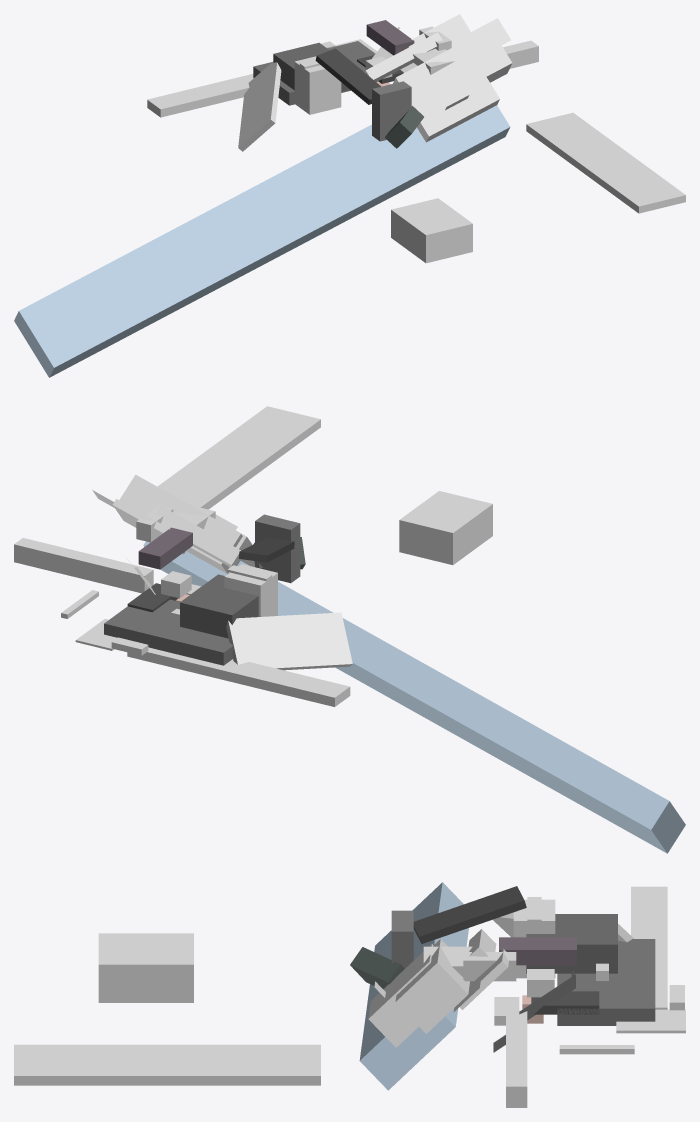
3 views of the same model, one above another, from view 1: azimuth 30°, elevation 25°; view 2: azimuth 150°, elevation 25°; view 3: azimuth 270°, elevation 25° (orthographic). The views are drawn at different scales.
Parts seen in each view (by area): view 1: Cube.020, Cube.032, Cube.011, Cube.031, Cube.024, Cube.029, Cube.007, Cube.022, Cube.008, Cube.009, Cube.006, Cube.025 (+5 smaller); view 2: Cube.020, Cube.032, Cube.024, Cube.031, Cube.029, Cube.002, Cube.005, Cube.025, Cube.022, Cube.008, Cube.006, Cube.007 (+4 smaller); view 3: Cube.032, Cube.031, Cube.020, Cube.002, Cube.022, Cube.025, Cube.029, Cube.009, Cube.011, Cube.005, Cube.019, Cube.023 (+15 smaller).
Boxes of the visible parts, x1,y1,x2,y2 form: Cube.020: (14, 105, 510, 377); Cube.032: (526, 112, 685, 213); Cube.011: (404, 47, 499, 142); Cube.031: (391, 198, 472, 263); Cube.024: (238, 61, 281, 151); Cube.029: (147, 74, 253, 117); Cube.007: (294, 56, 341, 114); Cube.022: (393, 27, 512, 83); Cube.008: (372, 81, 411, 141); Cube.009: (315, 48, 380, 104); Cube.006: (364, 32, 442, 81); Cube.025: (273, 42, 349, 91); Cube.020: (143, 541, 685, 853); Cube.032: (157, 406, 320, 509); Cube.024: (226, 612, 352, 670); Cube.031: (399, 491, 492, 564); Cube.029: (127, 647, 350, 706); Cube.002: (104, 599, 232, 665); Cube.005: (14, 538, 153, 593); Cube.025: (180, 574, 258, 638); Cube.022: (119, 474, 242, 573); Cube.008: (255, 514, 300, 583); Cube.006: (155, 505, 240, 566); Cube.007: (224, 564, 277, 616); Cube.032: (14, 1044, 320, 1085); Cube.031: (98, 933, 193, 1002); Cube.020: (359, 882, 468, 1090); Cube.002: (557, 939, 655, 1025); Cube.022: (395, 939, 469, 1033); Cube.025: (526, 914, 617, 973); Cube.029: (631, 886, 667, 1009); Cube.009: (413, 886, 526, 943); Cube.011: (368, 944, 433, 1047); Cube.005: (506, 1010, 527, 1107); Cube.019: (499, 937, 576, 965); Cube.023: (350, 947, 404, 988).
Bounding box in the file's own units: 80.72 × 32.75 × 63.45.
